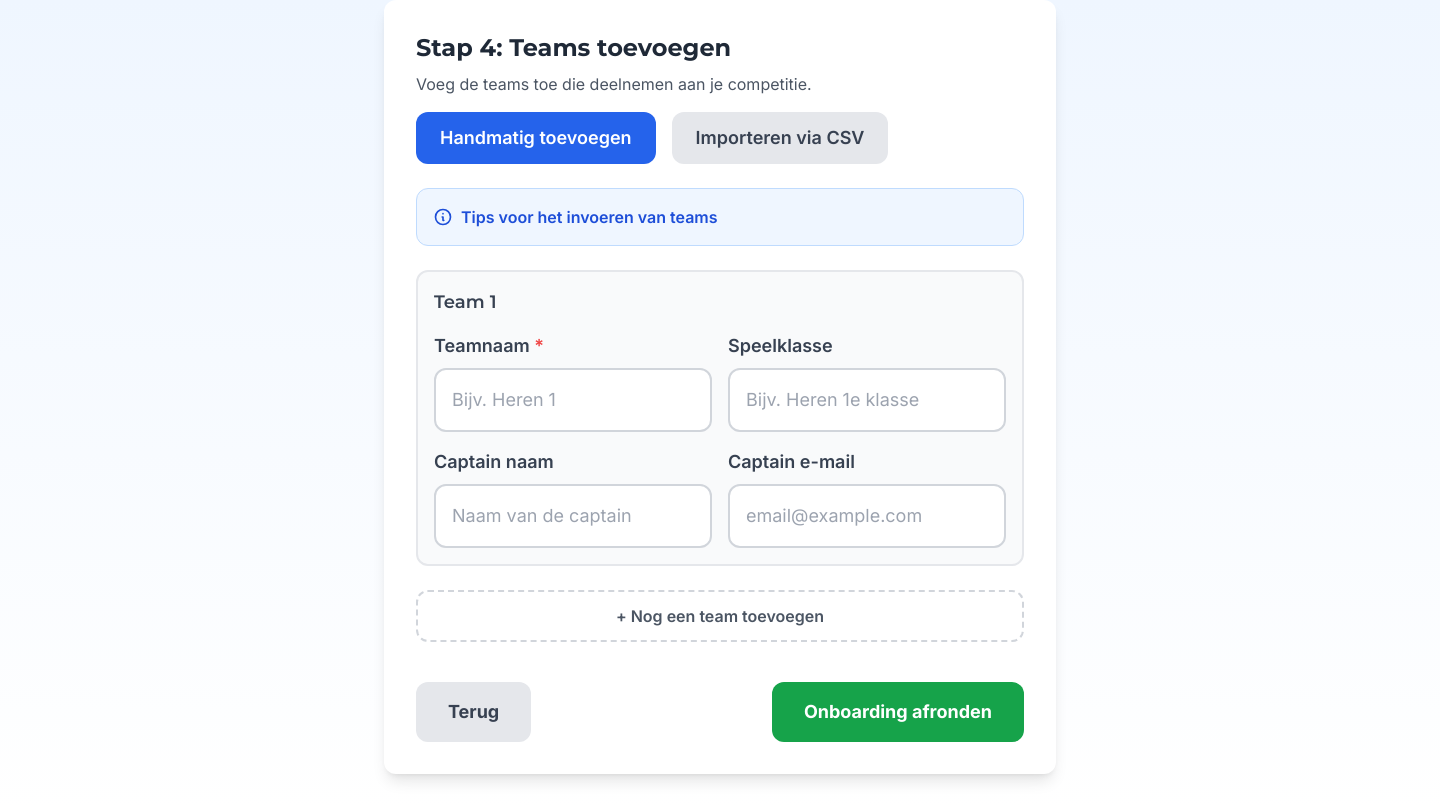
Test case: TeamsStep › Add/Remove teams › should add a new team when clicking add button
Click the button "+ Nog een team toevoegen" at (720, 616), box [416, 590, 1024, 642]
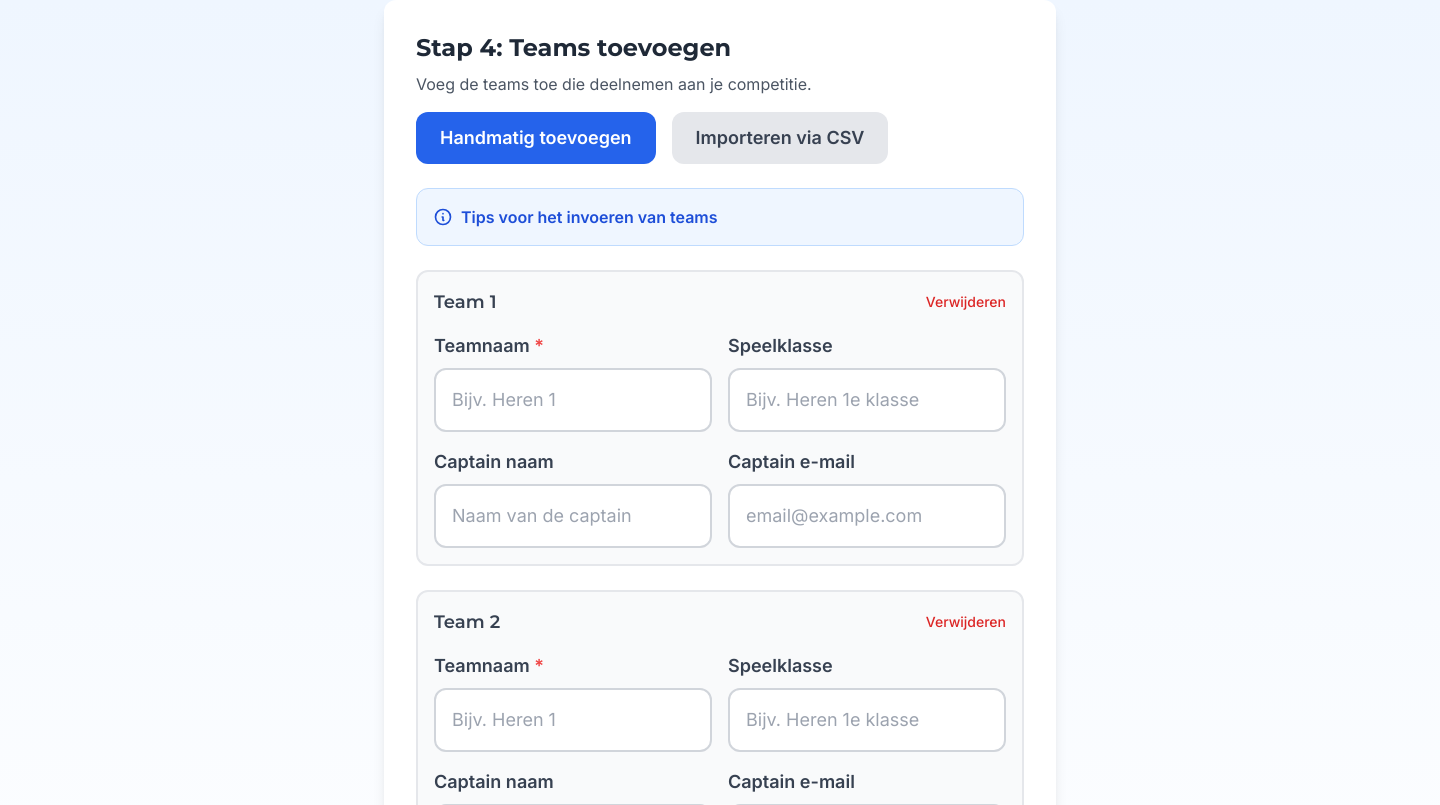
Expected: the heading "Team 1" is shown, [434, 288, 496, 316]
Expected: the heading "Team 2" is shown, [434, 608, 500, 636]
